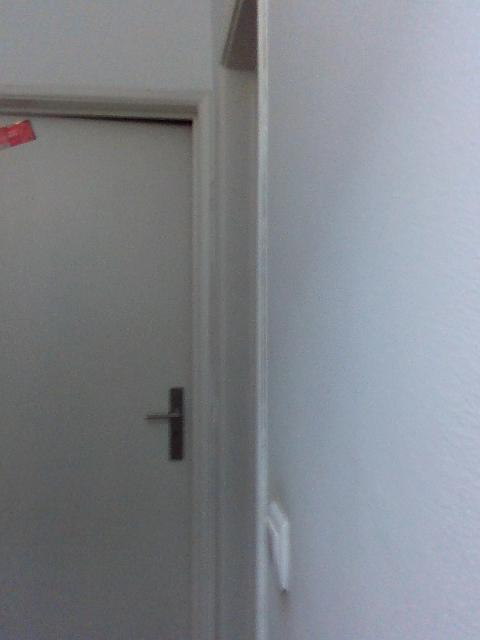door: (1, 115, 187, 637)
